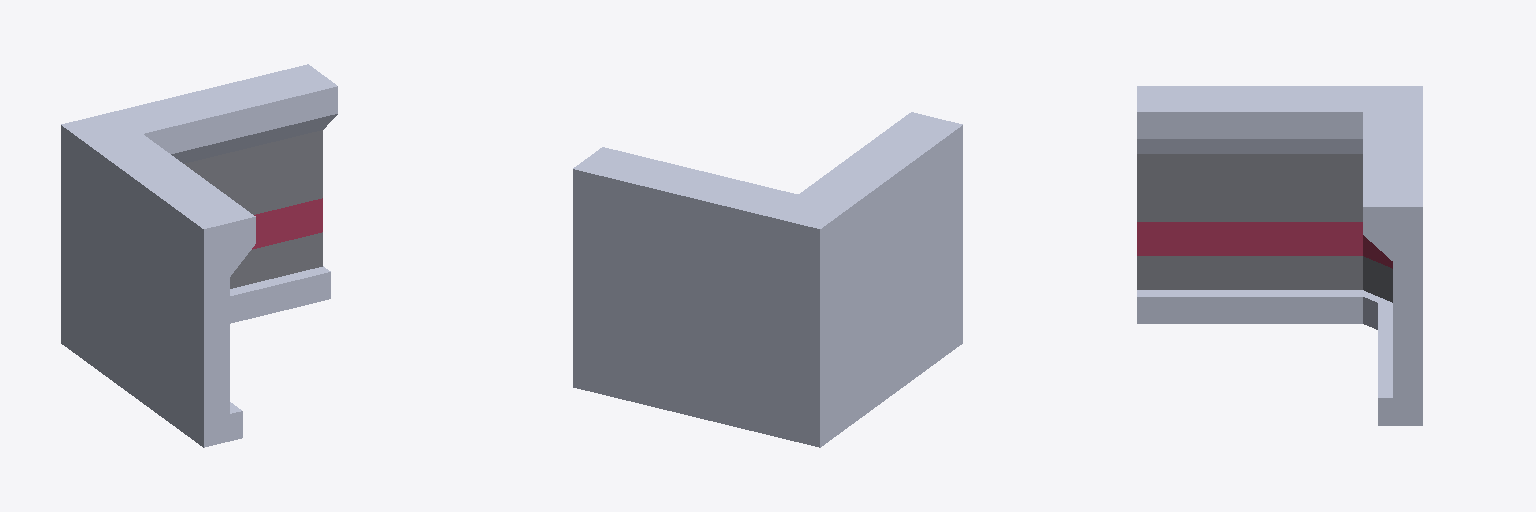
File: spaceInterior_035.obj
The picture shows the model from 3 angles: view 1: azimuth 30°, elevation 25°; view 2: azimuth 150°, elevation 25°; view 3: azimuth 270°, elevation 25°; orthographic projection.
Visible parts, largest first — view 1: Mesh1 Group1 Model; view 2: Mesh1 Group1 Model; view 3: Mesh1 Group1 Model.
Boxes of the visible parts, x1=… form: Mesh1 Group1 Model: x1=61, y1=64, x2=337, y2=447; Mesh1 Group1 Model: x1=573, y1=112, x2=962, y2=447; Mesh1 Group1 Model: x1=1137, y1=86, x2=1422, y2=425.
Bounding box in the file's own units: 1.19 × 1 × 1.19.